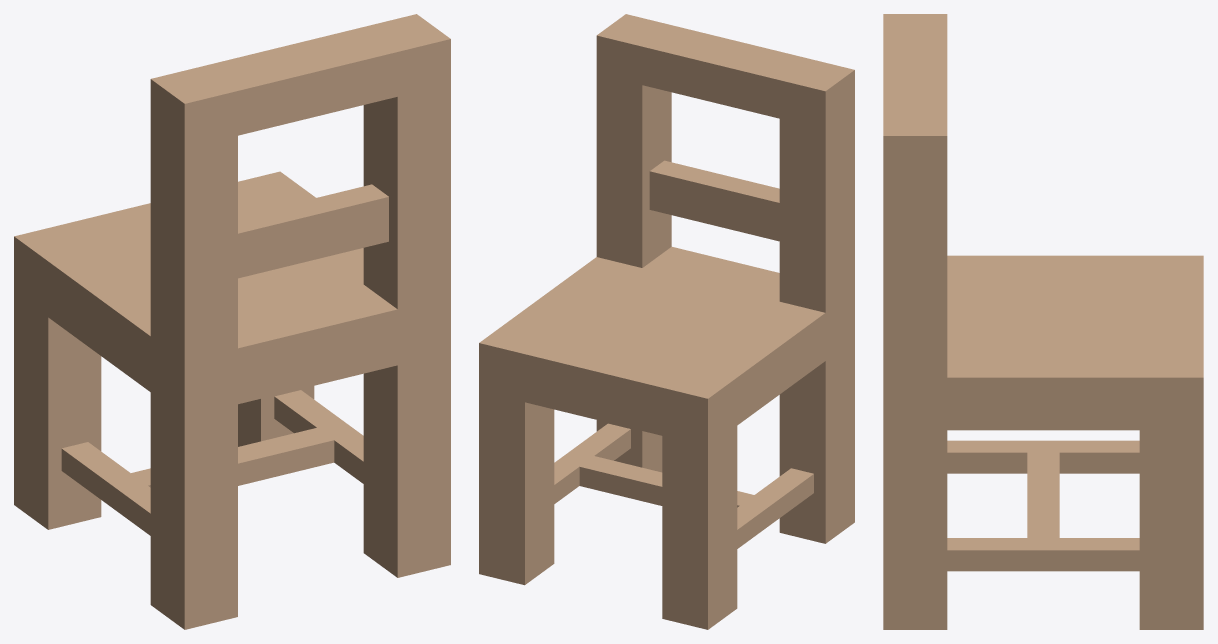
File: chair.glb
3 views of the same model, side by side, from view 1: azimuth 30°, elevation 25°; view 2: azimuth 150°, elevation 25°; view 3: azimuth 270°, elevation 25° (orthographic). The views are drawn at different scales.
Visible parts, largest first — view 1: chair; view 2: chair; view 3: chair.
Part boxes in pixels (x1=…): chair: x1=14, y1=14, x2=450, y2=629; chair: x1=479, y1=14, x2=854, y2=629; chair: x1=883, y1=14, x2=1203, y2=629.
Bounding box in the file's own units: 0.45 × 0.85 × 0.5.
